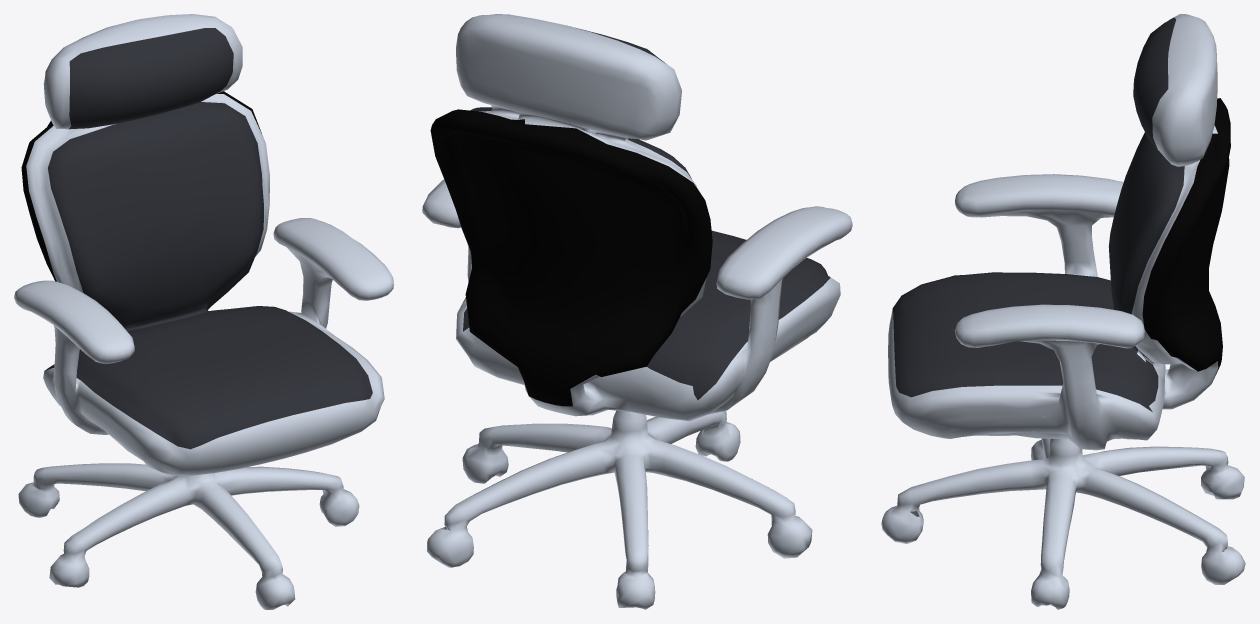
Rendered from ErgonomicOfficeChair.fbx.
The picture shows the model from 3 angles, left to right: view 1: azimuth 30°, elevation 25°; view 2: azimuth 150°, elevation 25°; view 3: azimuth 270°, elevation 25°; orthographic projection. The views are drawn at different scales.
Visible parts, largest first — view 1: ErgonomicOfficeChair; view 2: ErgonomicOfficeChair; view 3: ErgonomicOfficeChair.
Boxes of the visible parts, x1=… form: ErgonomicOfficeChair: x1=14, y1=14, x2=393, y2=609; ErgonomicOfficeChair: x1=422, y1=14, x2=852, y2=609; ErgonomicOfficeChair: x1=881, y1=14, x2=1245, y2=609.
Size of the model in its own units: 40 by 60 by 40.
Materials: 1 (1 with a texture image).
